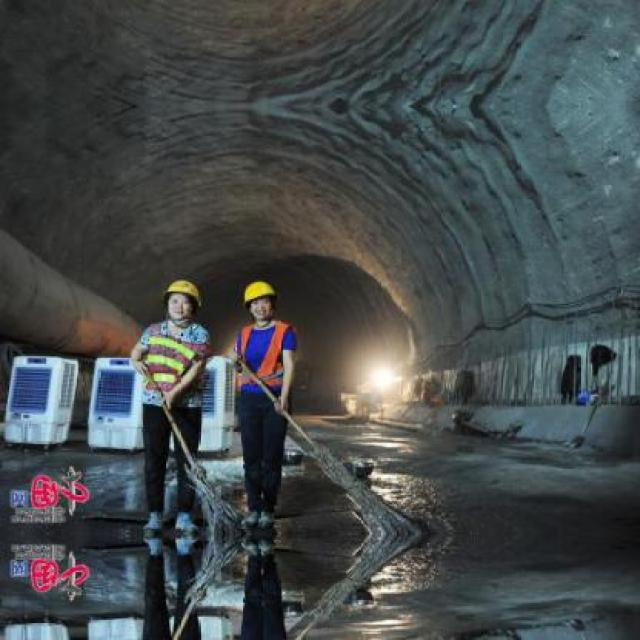Reflective-Jacket: (126, 319, 219, 415), (228, 318, 302, 404)
Safety-Helmet: (154, 272, 212, 316), (232, 273, 286, 311)
